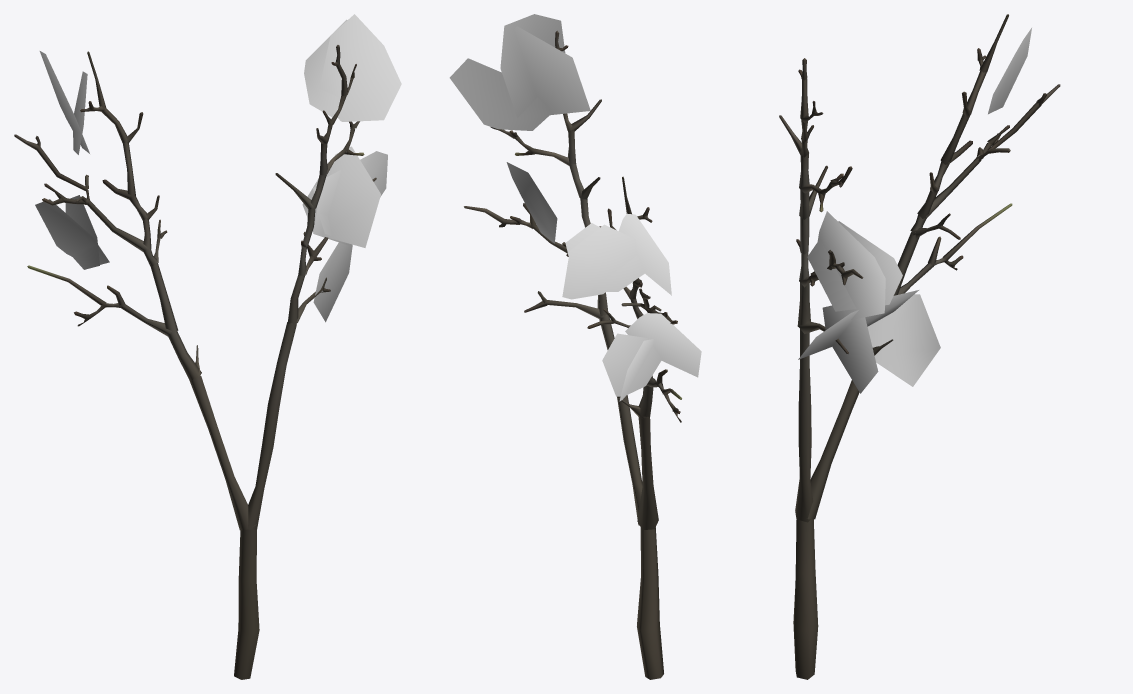
Rendered from sapling_5.glb.
The picture shows the model from 3 angles, left to right: view 1: azimuth 30°, elevation 25°; view 2: azimuth 150°, elevation 25°; view 3: azimuth 270°, elevation 25°; orthographic projection. The views are drawn at different scales.
Visible parts, largest first — view 1: sapling_5; view 2: sapling_5; view 3: sapling_5.
Boxes of the visible parts, bbox=[...] form: sapling_5: bbox=[14, 14, 401, 679]; sapling_5: bbox=[449, 14, 701, 679]; sapling_5: bbox=[779, 14, 1060, 679].
Size of the model in its own units: 1.11 by 2.14 by 1.11.
